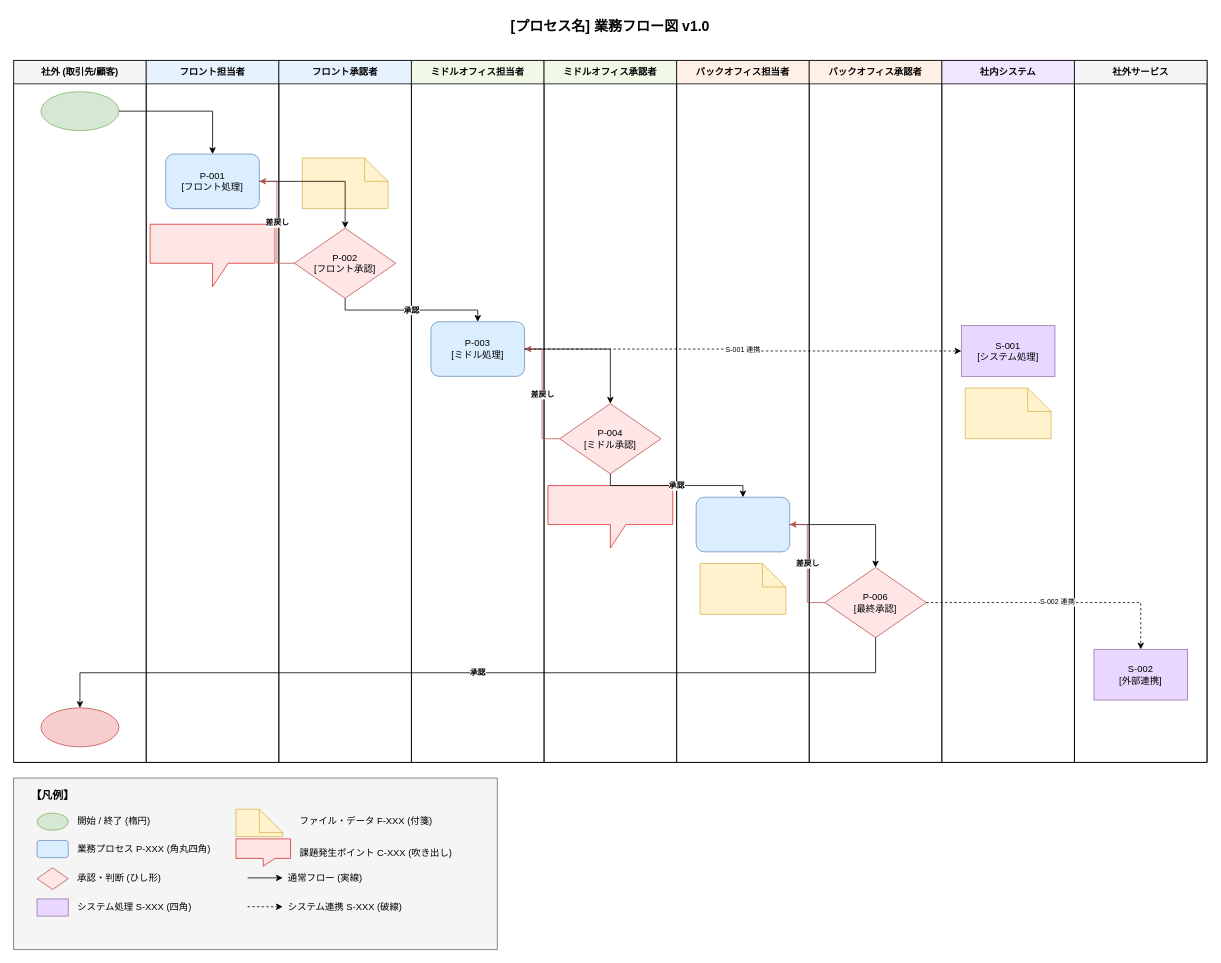
Image size: 1221x963. Some labels were removed from this diagram. The centre of each missing label's shape, as x and y in pixels:
F-001 [申請書]: [344,183]
F-002 [システムデータ]: [1007,413]
F-003 [事務帳票]: [742,588]
P-005 [バック処理]: [742,524]
⚠️ C-001 [フロント側課題]: [212,255]
⚠️ C-002 [ミドル側課題]: [610,516]
終了: [79,727]
開始: [79,111]
